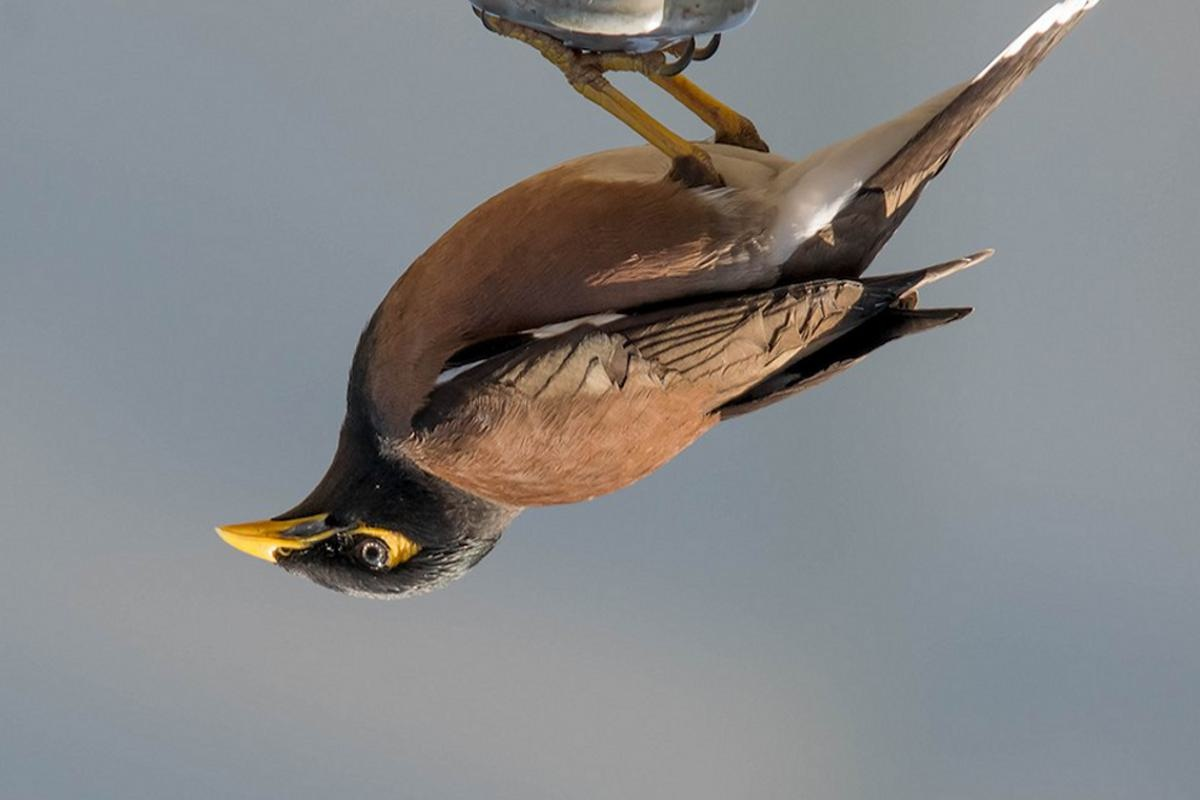myna: (218, 85, 1051, 621)
